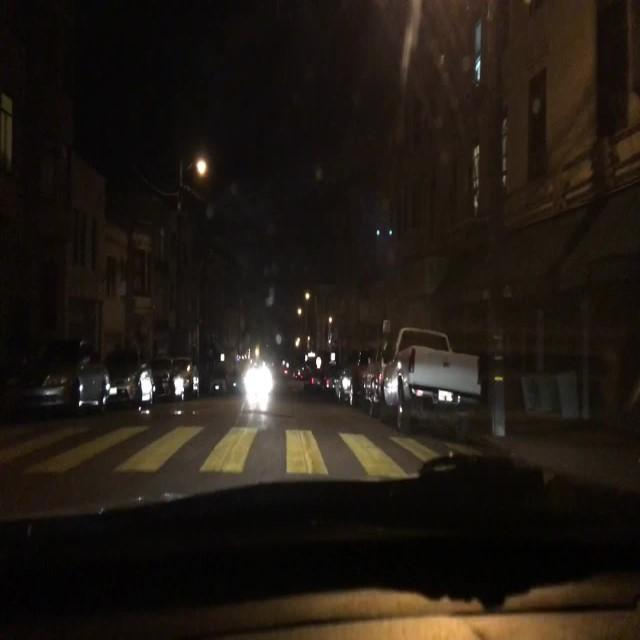normal: (360, 325, 502, 445)
